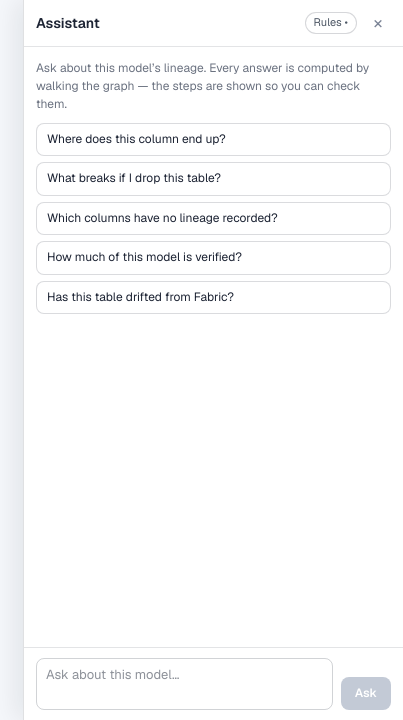
Scenario: AssistantPanel › house rules › shows existing rules when reopened
What coordinates should you click on to do the following:
click the button with aria-label "House rules"
I would click on:
 (331, 23)
Its box is [304, 12, 357, 34].
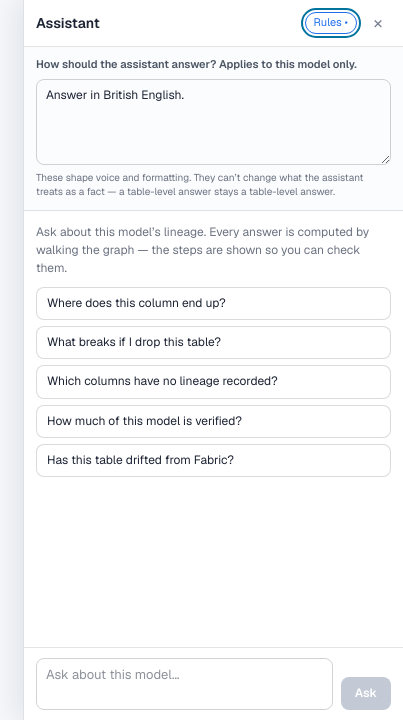
Expected: the text box showing "Answer in British English." is shown, [36, 79, 391, 164]
